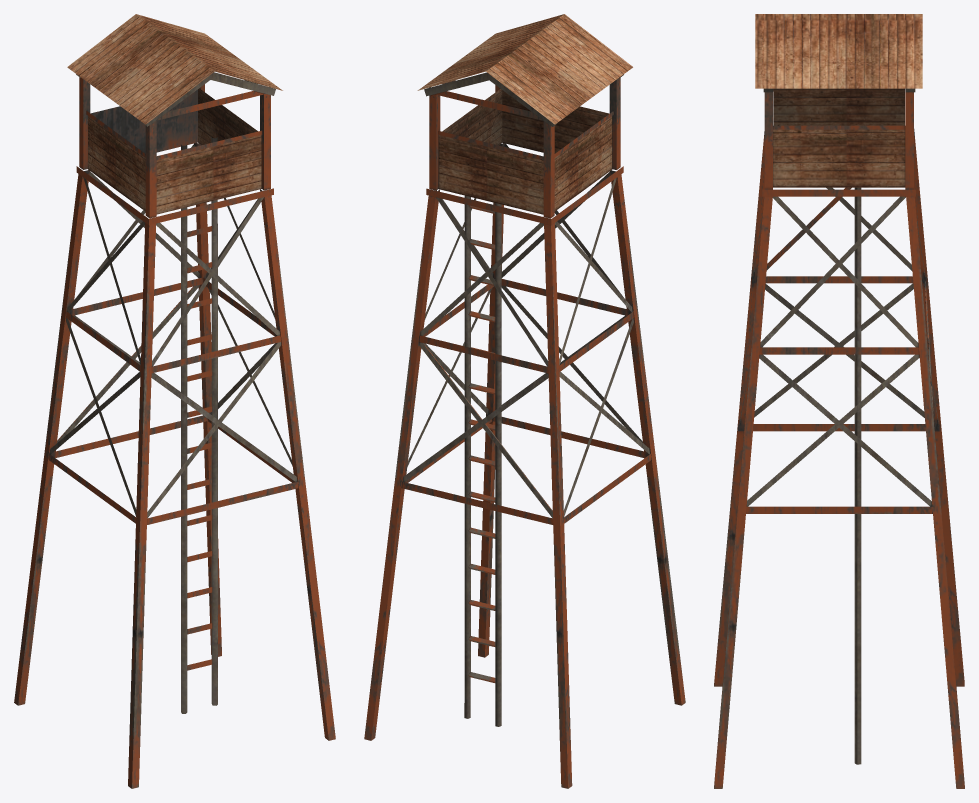
Rendered from watchtower.glb.
3 views of the same model, side by side, from view 1: azimuth 30°, elevation 25°; view 2: azimuth 150°, elevation 25°; view 3: azimuth 270°, elevation 25° (orthographic). The views are drawn at different scales.
Visible parts, largest first — view 1: watchtower; view 2: watchtower; view 3: watchtower.
Boxes of the visible parts, bbox=[...] form: watchtower: bbox=[14, 14, 335, 788]; watchtower: bbox=[364, 14, 685, 788]; watchtower: bbox=[714, 14, 964, 788].
Size of the model in its own units: 63.74 by 203 by 63.72.
1 material, 1 textured.
